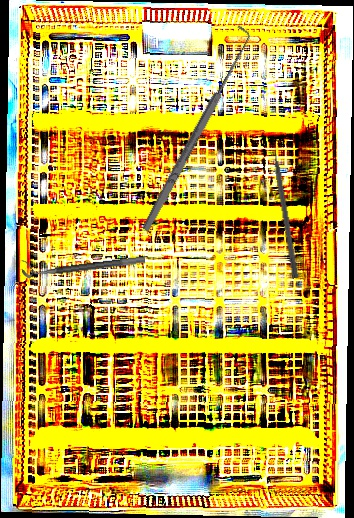Fixation Ring: (20, 245, 146, 279)
Hook Surgical: (132, 23, 258, 236)
Pusher: (269, 137, 301, 279)
